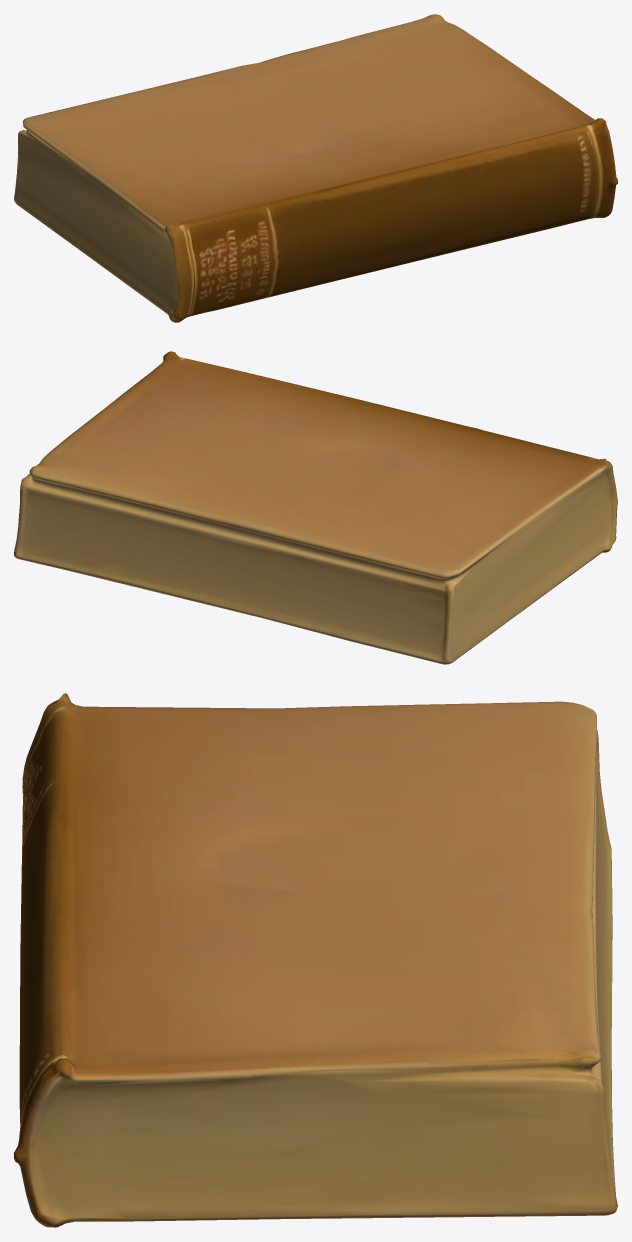
The model's file is old-book.glb.
The picture shows the model from 3 angles, top to bottom: view 1: azimuth 30°, elevation 25°; view 2: azimuth 150°, elevation 25°; view 3: azimuth 270°, elevation 25°; orthographic projection. The views are drawn at different scales.
Visible parts, largest first — view 1: material; view 2: material; view 3: material.
Boxes of the visible parts, x1,y1,x2,y2 form: material: [14, 14, 617, 322]; material: [14, 351, 617, 664]; material: [14, 693, 617, 1227].
Size of the model in its own units: 1 by 0.2109 by 0.6793.
1 material, 1 textured.
